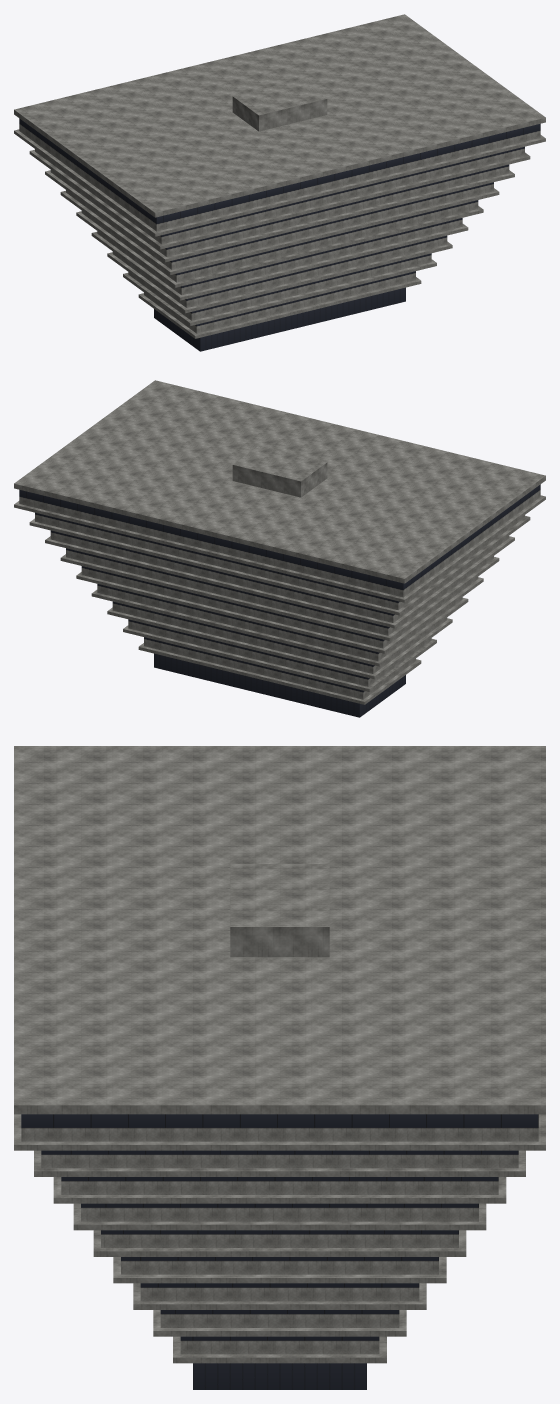
The model's file is panorama.obj.
3 views of the same model, one above another, from view 1: azimuth 30°, elevation 25°; view 2: azimuth 150°, elevation 25°; view 3: azimuth 270°, elevation 25° (orthographic). The views are drawn at different scales.
Parts seen in each view (by area): view 1: RoofSlab_Concrete, Floor_FacadeRibbon, Slab_Concrete, Base_Glass, RoofTech_Concrete; view 2: RoofSlab_Concrete, Floor_FacadeRibbon, Slab_Concrete, Base_Glass, RoofTech_Concrete; view 3: RoofSlab_Concrete, Floor_FacadeRibbon, Slab_Concrete, RoofTech_Concrete, Base_Glass.
Part boxes in pixels (left/top/right/bottom): RoofSlab_Concrete: left=14, top=14, right=545, bottom=217; Floor_FacadeRibbon: left=19, top=118, right=540, bottom=333; Slab_Concrete: left=14, top=129, right=545, bottom=338; Base_Glass: left=154, top=287, right=405, bottom=351; RoofTech_Concrete: left=232, top=79, right=327, bottom=131; RoofSlab_Concrete: left=14, top=380, right=545, bottom=583; Floor_FacadeRibbon: left=19, top=484, right=540, bottom=699; Slab_Concrete: left=14, top=495, right=545, bottom=704; Base_Glass: left=154, top=653, right=405, bottom=717; RoofTech_Concrete: left=232, top=445, right=327, bottom=497; RoofSlab_Concrete: left=14, top=746, right=545, bottom=1114; Floor_FacadeRibbon: left=21, top=1114, right=538, bottom=1354; Slab_Concrete: left=14, top=1114, right=545, bottom=1363; RoofTech_Concrete: left=230, top=864, right=329, bottom=957; Base_Glass: left=193, top=1363, right=366, bottom=1389.
Bounding box in the file's own units: 68.4 × 35.5 × 42.8.
3 materials, 3 textured.
